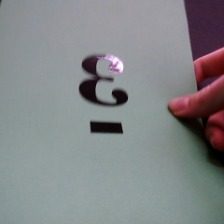green3: (69, 47, 138, 145)
